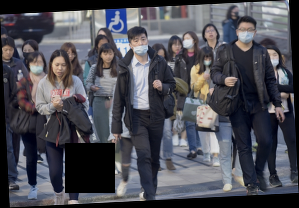mask_weared_incorrect: (131, 36, 150, 56), (29, 58, 46, 77), (267, 51, 281, 68)
with_mask: (238, 26, 255, 44), (181, 36, 196, 51), (23, 47, 36, 62), (203, 55, 214, 67)
without_mask: (51, 59, 68, 78), (101, 50, 115, 65), (205, 27, 219, 41), (2, 47, 15, 60), (66, 49, 77, 63), (171, 42, 182, 55)
